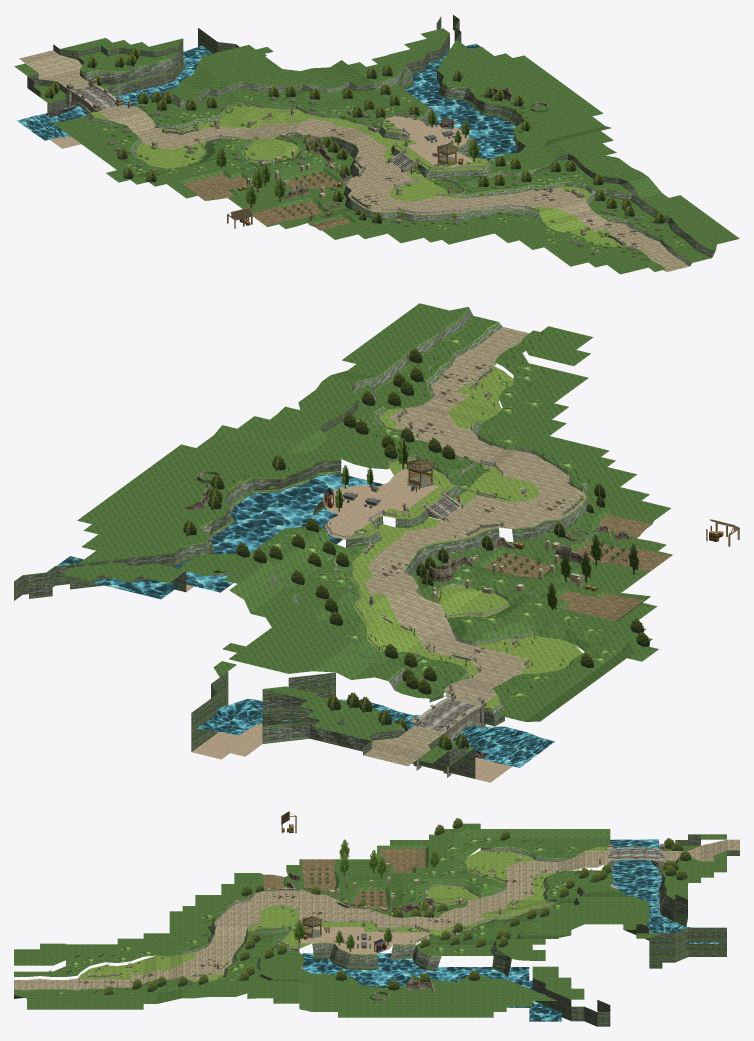
File: Armorica2.obj
3 views of the same model, one above another, from view 1: azimuth 30°, elevation 25°; view 2: azimuth 150°, elevation 25°; view 3: azimuth 270°, elevation 25° (orthographic). The views are drawn at different scales.
Visible parts, largest first — view 1: Object.18, Object.4, Object.8, Object.25, Object.32, Object.26, Object.12, Object.23, Object.31, Object.7, Object.5, Object.1 (+76 smaller); view 2: Object.18, Object.4, Object.25, Object.8, Object.32, Object.23, Object.1, Object.26, Object.12, Object.45, Object.5, Object.19 (+76 smaller); view 3: Object.162, Object.18, Object.25, Object.1, Object.23, Object.12, Object.8, Object.32, Object.19, Object.31, Object.51, Object.27 (+75 smaller).
Boxes of the visible parts, left/top/right/bottom form: Object.18: left=523, top=119, right=613, bottom=157; Object.4: left=223, top=67, right=398, bottom=181; Object.8: left=220, top=64, right=350, bottom=218; Object.25: left=437, top=46, right=513, bottom=84; Object.32: left=623, top=195, right=712, bottom=237; Object.26: left=661, top=219, right=739, bottom=262; Object.12: left=198, top=45, right=275, bottom=79; Object.23: left=457, top=70, right=546, bottom=105; Object.31: left=473, top=213, right=556, bottom=242; Object.7: left=266, top=167, right=668, bottom=226; Object.5: left=252, top=143, right=631, bottom=212; Object.1: left=57, top=121, right=340, bottom=182; Object.18: left=211, top=416, right=329, bottom=469; Object.4: left=232, top=551, right=582, bottom=608; Object.25: left=81, top=515, right=198, bottom=557; Object.8: left=263, top=516, right=601, bottom=654; Object.32: left=342, top=328, right=452, bottom=386; Object.23: left=125, top=483, right=228, bottom=533; Object.1: left=486, top=548, right=591, bottom=715; Object.26: left=385, top=303, right=498, bottom=352; Object.12: left=229, top=634, right=341, bottom=673; Object.45: left=500, top=587, right=600, bottom=644; Object.5: left=270, top=390, right=648, bottom=573; Object.19: left=168, top=452, right=286, bottom=497; Object.162: left=662, top=927, right=726, bottom=962; Object.18: left=269, top=979, right=337, bottom=1006; Object.25: left=467, top=979, right=532, bottom=1006; Object.1: left=351, top=829, right=597, bottom=903; Object.23: left=403, top=979, right=467, bottom=1006; Object.12: left=592, top=896, right=649, bottom=924; Object.8: left=532, top=896, right=609, bottom=927; Object.32: left=78, top=987, right=143, bottom=1009; Object.19: left=338, top=978, right=402, bottom=1006; Object.31: left=143, top=933, right=211, bottom=956; Object.51: left=467, top=823, right=532, bottom=856; Object.27: left=78, top=938, right=143, bottom=962.
Size of the model in its own units: 148 by 24 by 224.
